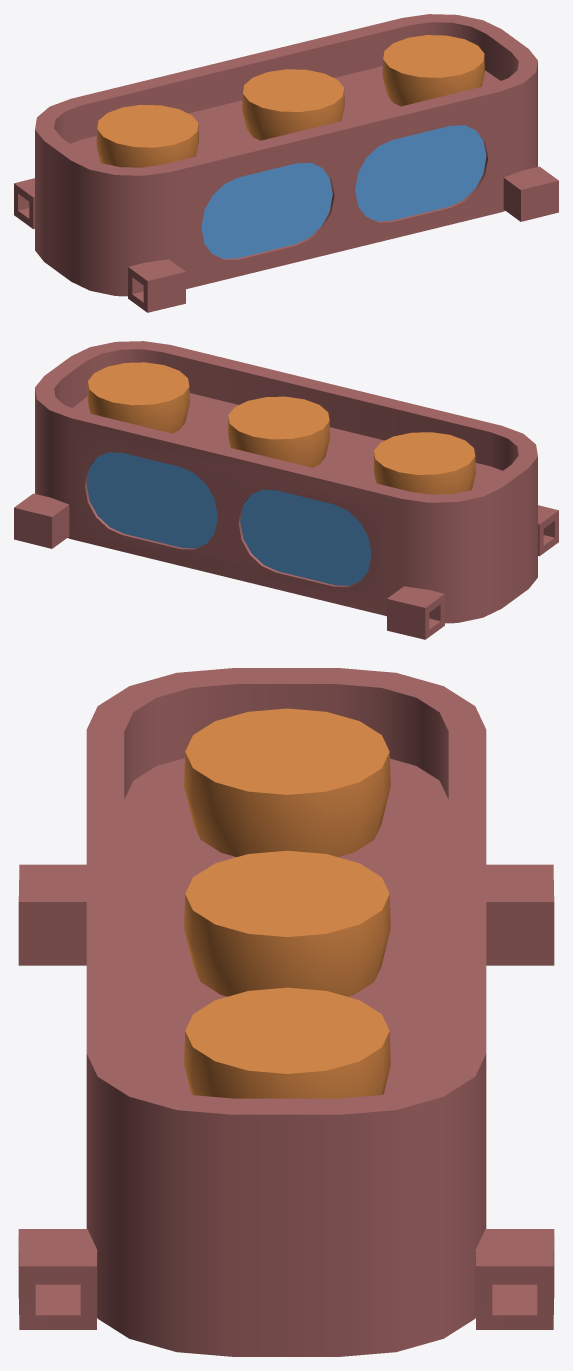
3 views of the same model, one above another, from view 1: azimuth 30°, elevation 25°; view 2: azimuth 150°, elevation 25°; view 3: azimuth 270°, elevation 25° (orthographic). The views are drawn at different scales.
Parts seen in each view (by area): view 1: 3; view 2: 3; view 3: 3.
Part boxes in pixels (bbox=[...]): 3: bbox=[14, 14, 558, 312]; 3: bbox=[14, 341, 558, 639]; 3: bbox=[18, 668, 554, 1356].
Bounding box in the file's own units: 19.56 × 5.04 × 9.91.
